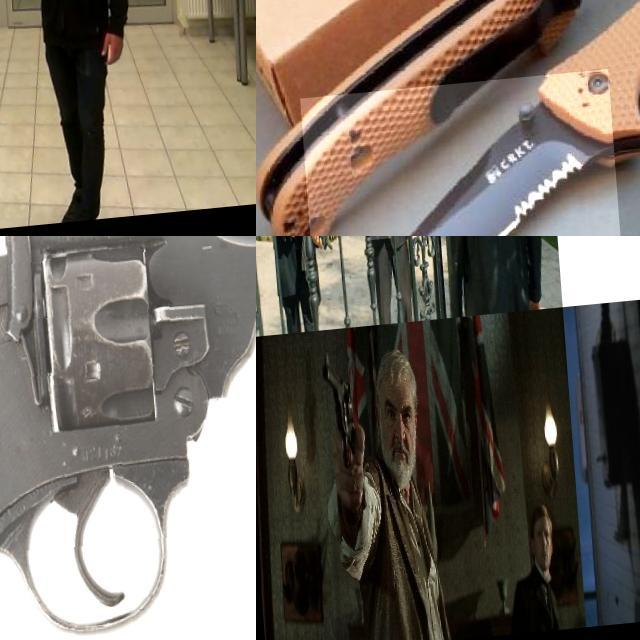-: (294, 76, 616, 236)
gun-knife-thesis - v11 Yolov5 augmented: (0, 236, 256, 640), (312, 348, 360, 522), (279, 236, 331, 287), (362, 236, 387, 274), (0, 0, 23, 27)
